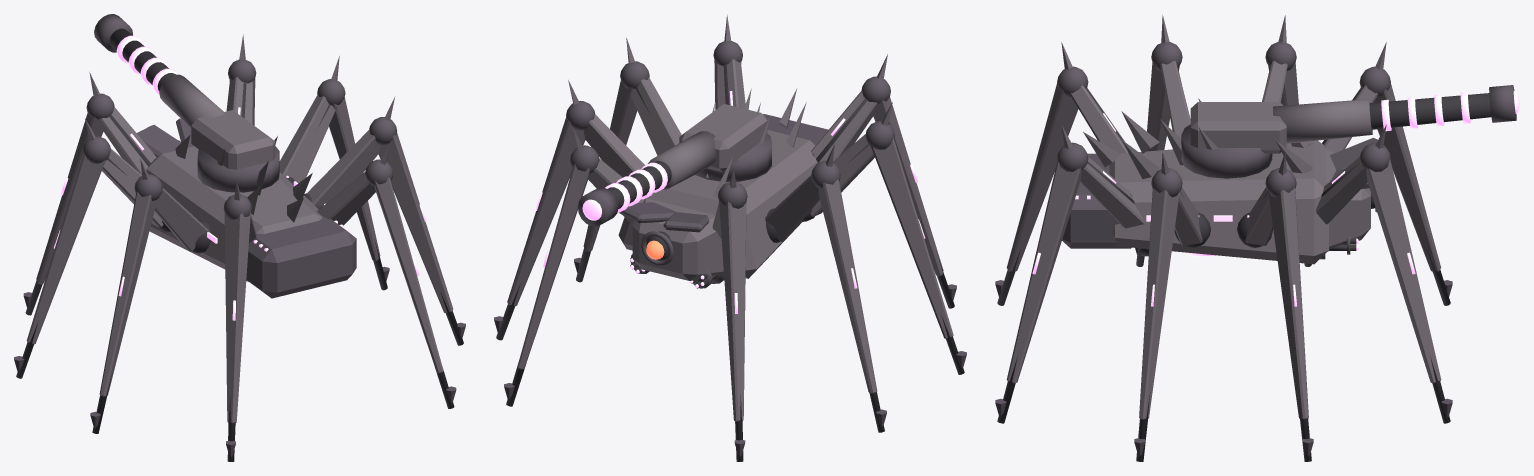
Rendered from kolos.glb.
3 views of the same model, side by side, from view 1: azimuth 30°, elevation 25°; view 2: azimuth 150°, elevation 25°; view 3: azimuth 270°, elevation 25° (orthographic). The views are drawn at different scales.
Visible parts, largest first — view 1: Hull, Turret, Leg4, Leg5, Leg3, Leg6, Leg2, Leg7, Leg1, Leg0; view 2: Hull, Turret, Leg3, Leg2, Leg5, Leg1, Leg7, Leg0, Leg4, Leg6; view 3: Hull, Turret, Leg6, Leg0, Leg4, Leg2, Leg7, Leg1, Leg5, Leg3.
Boxes of the visible parts, <box> form: Hull: <box>137,118,356,298</box>; Turret: <box>94,14,279,192</box>; Leg4: <box>304,96,465,345</box>; Leg5: <box>90,159,211,433</box>; Leg3: <box>14,118,170,378</box>; Leg6: <box>317,142,456,408</box>; Leg2: <box>279,56,389,290</box>; Leg7: <box>223,179,256,461</box>; Leg1: <box>23,72,156,315</box>; Leg0: <box>226,34,256,125</box>; Hull: <box>618,88,828,288</box>; Turret: <box>577,104,771,226</box>; Leg3: <box>765,145,886,432</box>; Leg2: <box>494,80,645,340</box>; Leg5: <box>802,102,966,374</box>; Leg1: <box>712,166,747,461</box>; Leg7: <box>811,54,956,308</box>; Leg0: <box>504,127,643,406</box>; Leg4: <box>574,37,681,282</box>; Leg6: <box>713,14,745,109</box>; Hull: <box>1062,98,1377,264</box>; Turret: <box>1181,85,1519,178</box>; Leg6: <box>995,124,1144,423</box>; Leg0: <box>1316,124,1452,423</box>; Leg4: <box>1134,152,1210,461</box>; Leg2: <box>1237,152,1313,461</box>; Leg7: <box>995,42,1128,305</box>; Leg1: <box>1322,42,1452,305</box>; Leg5: <box>1135,15,1190,266</box>; Leg3: <box>1262,15,1311,266</box>.
Bounding box in the file's own units: 5.18 × 3.36 × 5.68.
